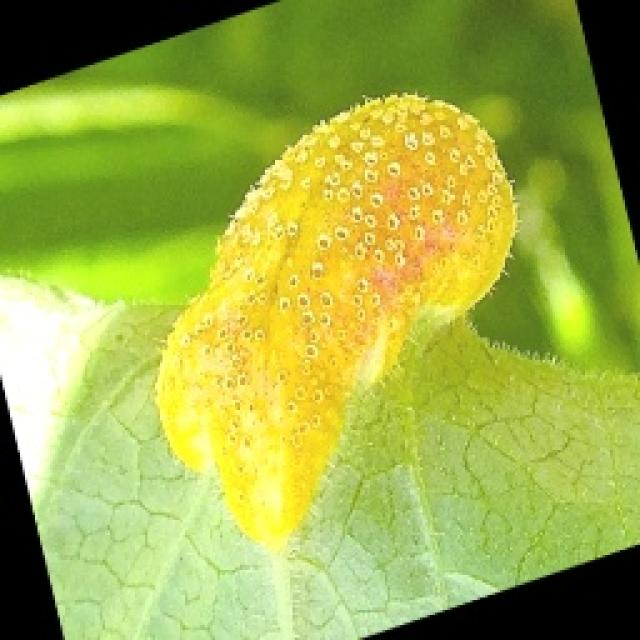Elderberry_rust: (150, 87, 520, 555)
